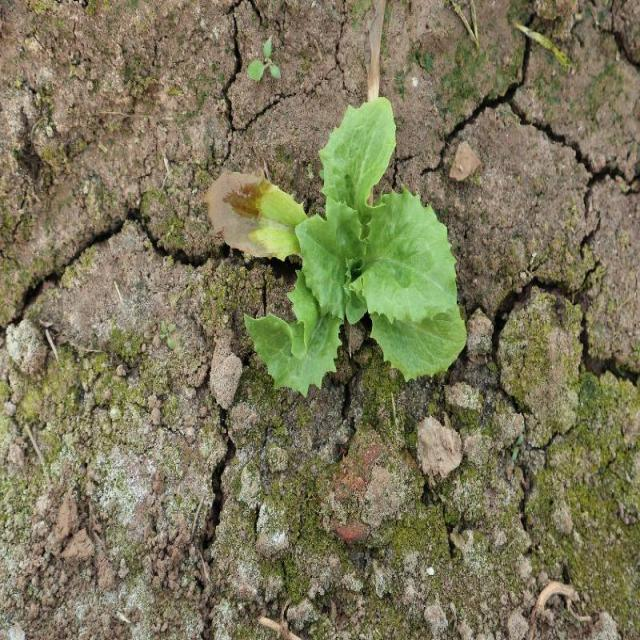crop: (255, 94, 471, 397)
